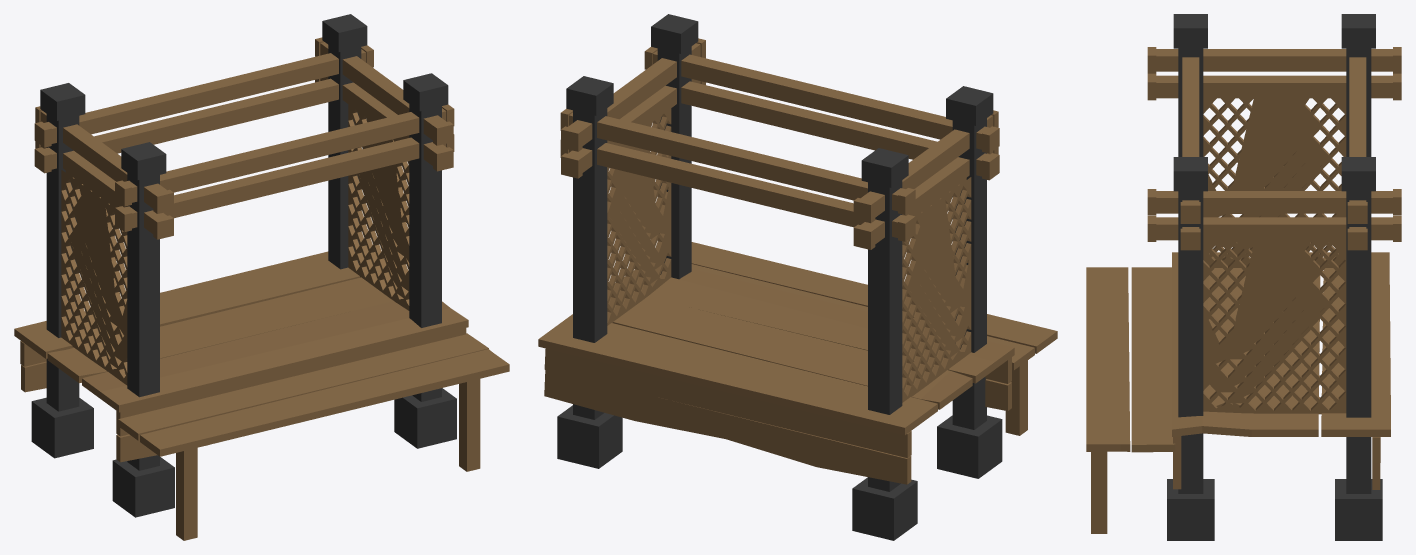
The model's file is Stall_1.fbx.
3 views of the same model, side by side, from view 1: azimuth 30°, elevation 25°; view 2: azimuth 150°, elevation 25°; view 3: azimuth 270°, elevation 25° (orthographic). The views are drawn at different scales.
Visible parts, largest first — view 1: Stall_1; view 2: Stall_1; view 3: Stall_1.
Part boxes in pixels (box(x1,y1,x2,y2)): Stall_1: box(14, 14, 509, 540); Stall_1: box(538, 14, 1057, 540); Stall_1: box(1086, 14, 1401, 540).
Bounding box in the file's own units: 184 × 177 × 137.
